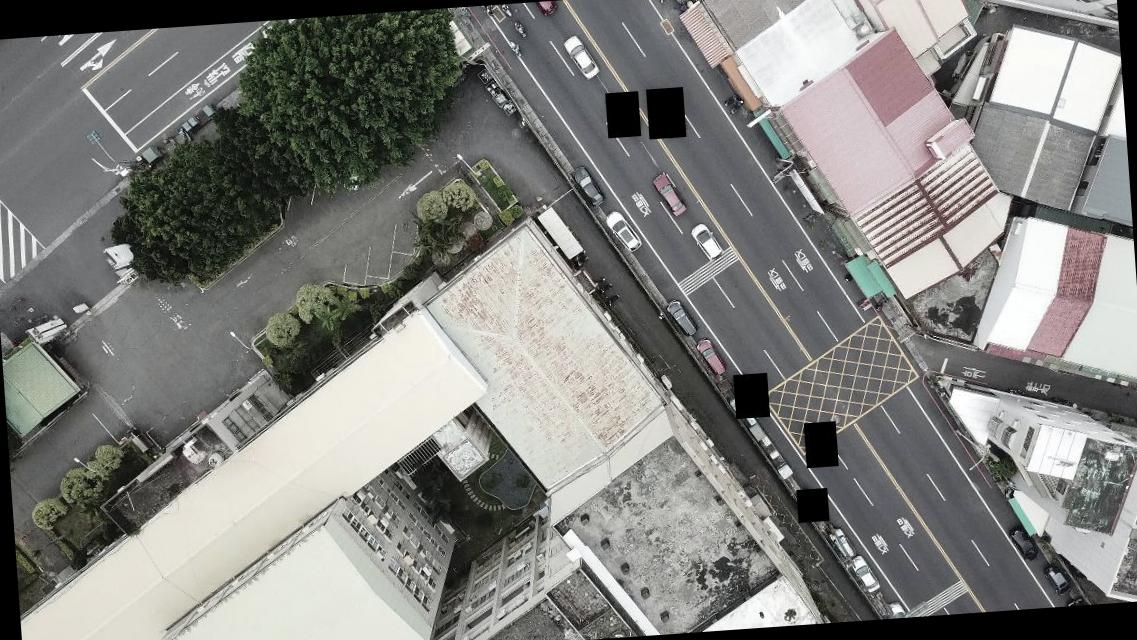vehicle: (562, 30, 599, 80), (604, 206, 642, 253), (651, 170, 685, 218), (572, 162, 604, 208), (849, 550, 880, 594), (1008, 524, 1041, 564), (690, 222, 722, 260), (666, 298, 696, 338), (696, 334, 724, 376), (1043, 560, 1072, 596), (830, 526, 854, 562), (537, 1, 560, 19), (886, 600, 906, 618)
